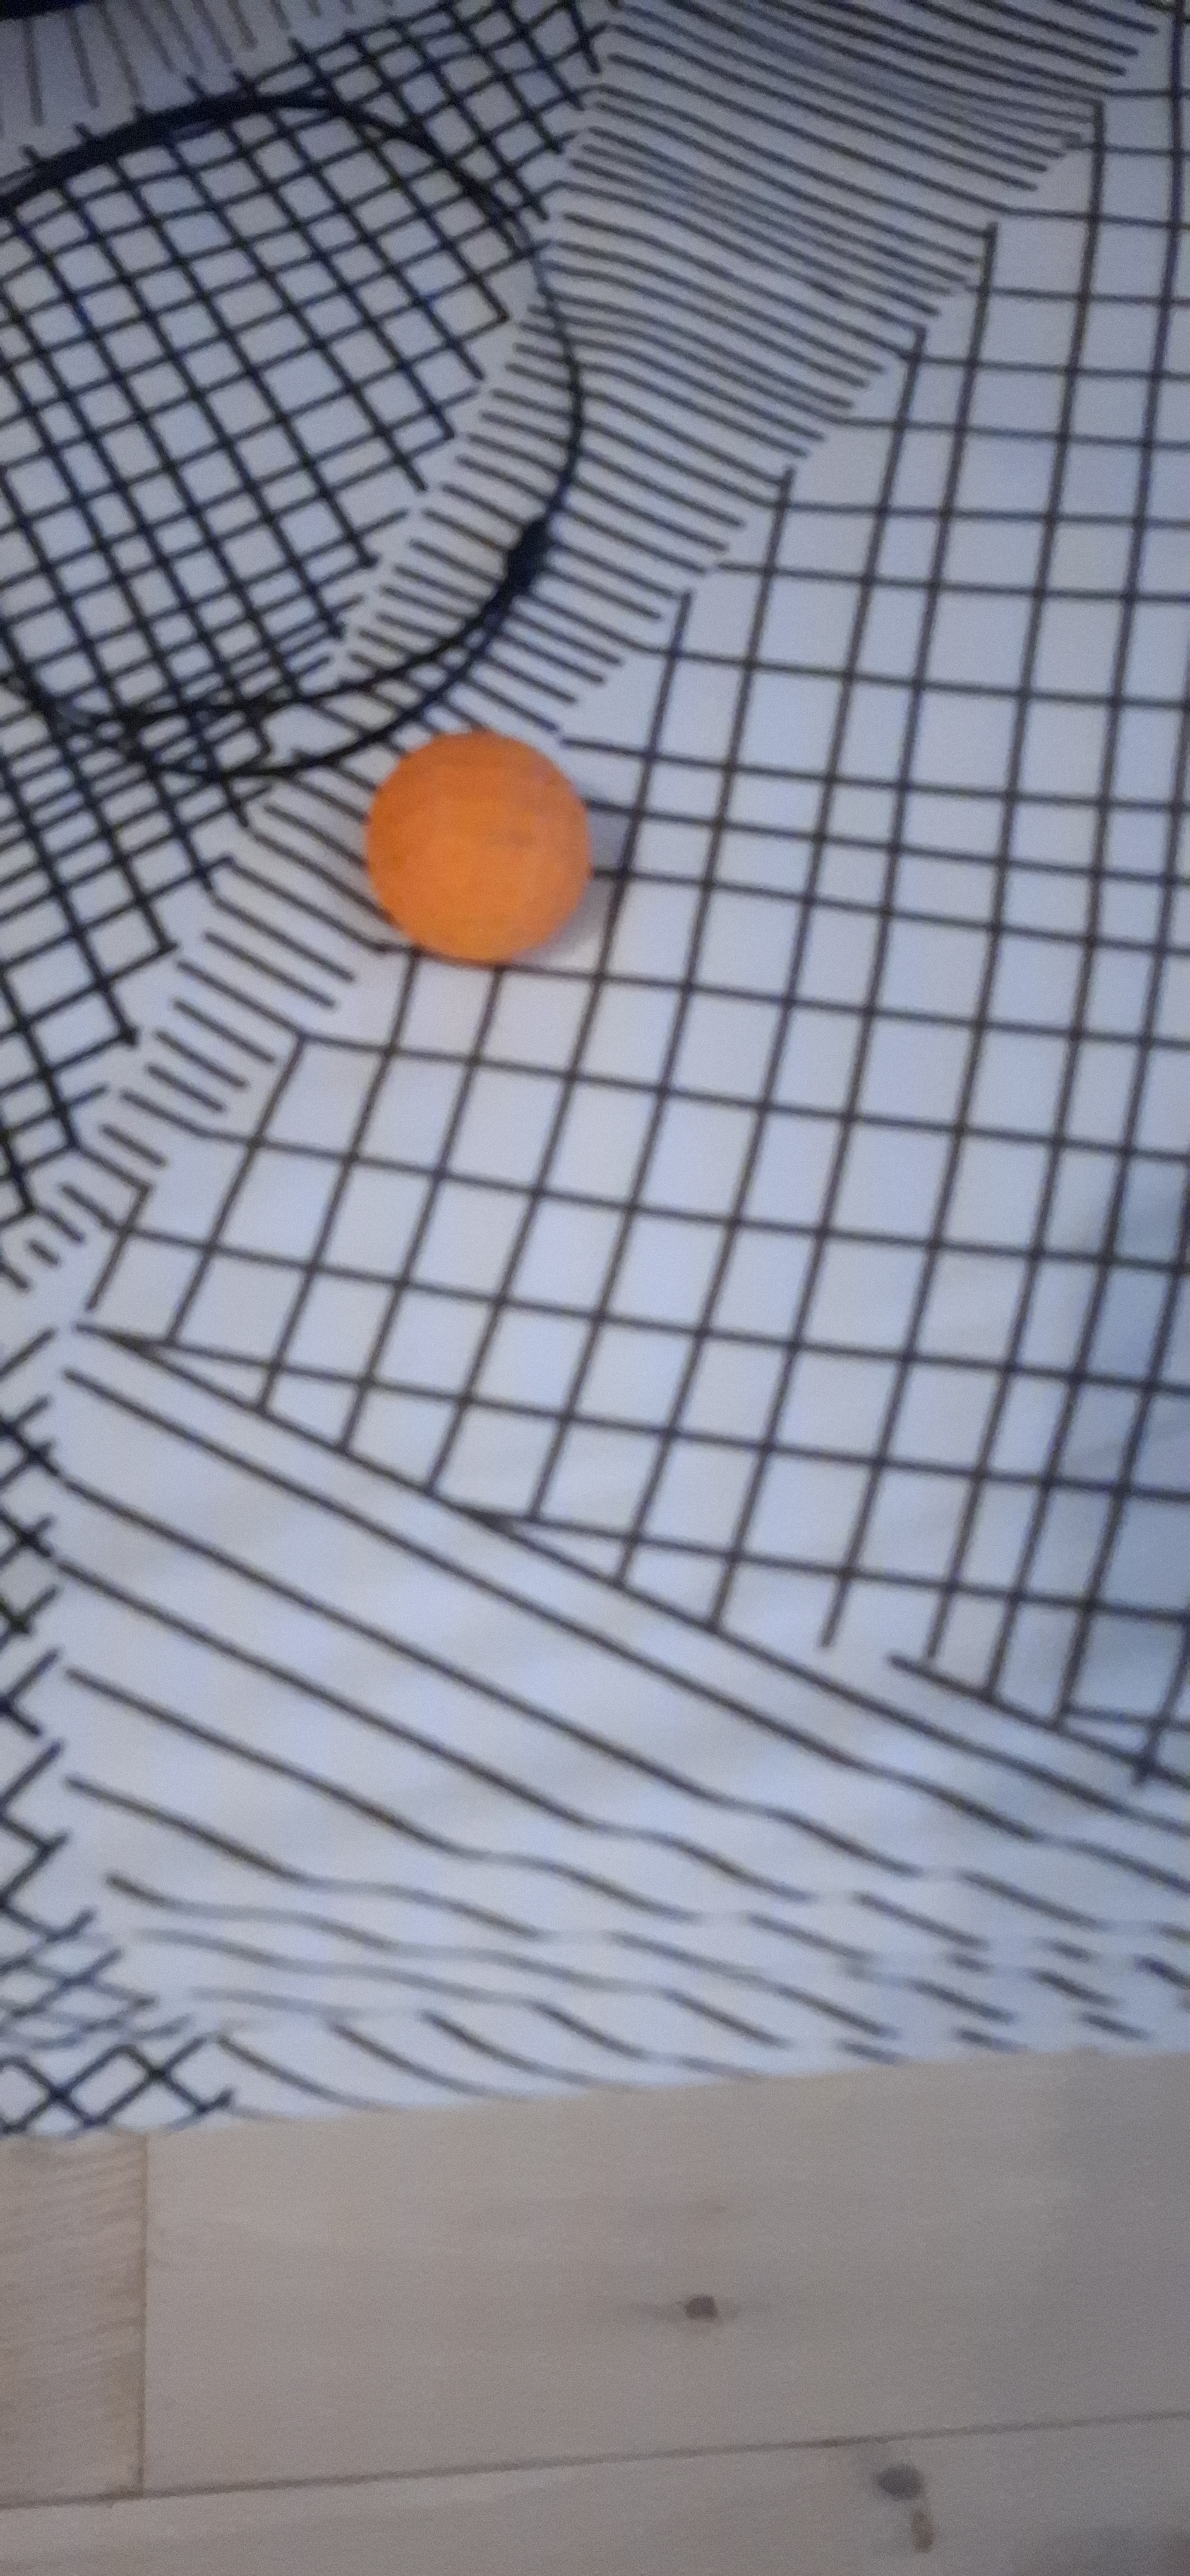ball: (340, 1301, 444, 1774)
